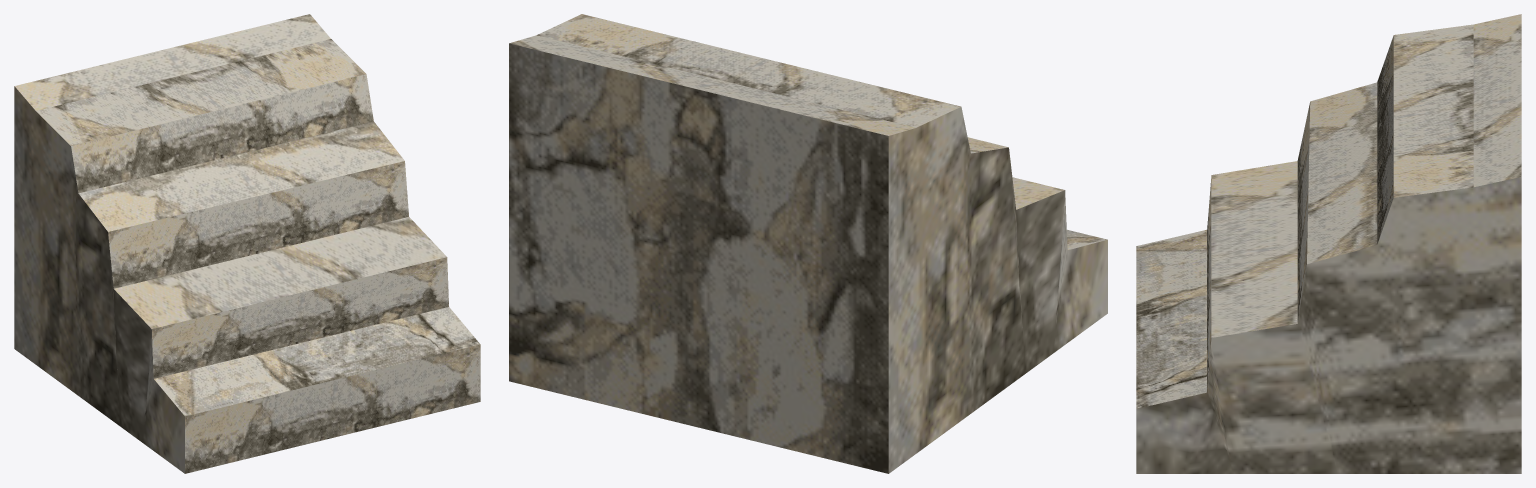
The model's file is staircase.fbx.
The picture shows the model from 3 angles, left to right: view 1: azimuth 30°, elevation 25°; view 2: azimuth 150°, elevation 25°; view 3: azimuth 270°, elevation 25°; orthographic projection. The views are drawn at different scales.
Visible parts, largest first — view 1: Cube; view 2: Cube; view 3: Cube.
Boxes of the visible parts, x1=… form: Cube: x1=14, y1=14, x2=480, y2=473; Cube: x1=509, y1=14, x2=1107, y2=473; Cube: x1=1136, y1=14, x2=1521, y2=473.
Bounding box in the file's own units: 328 × 279 × 328.
